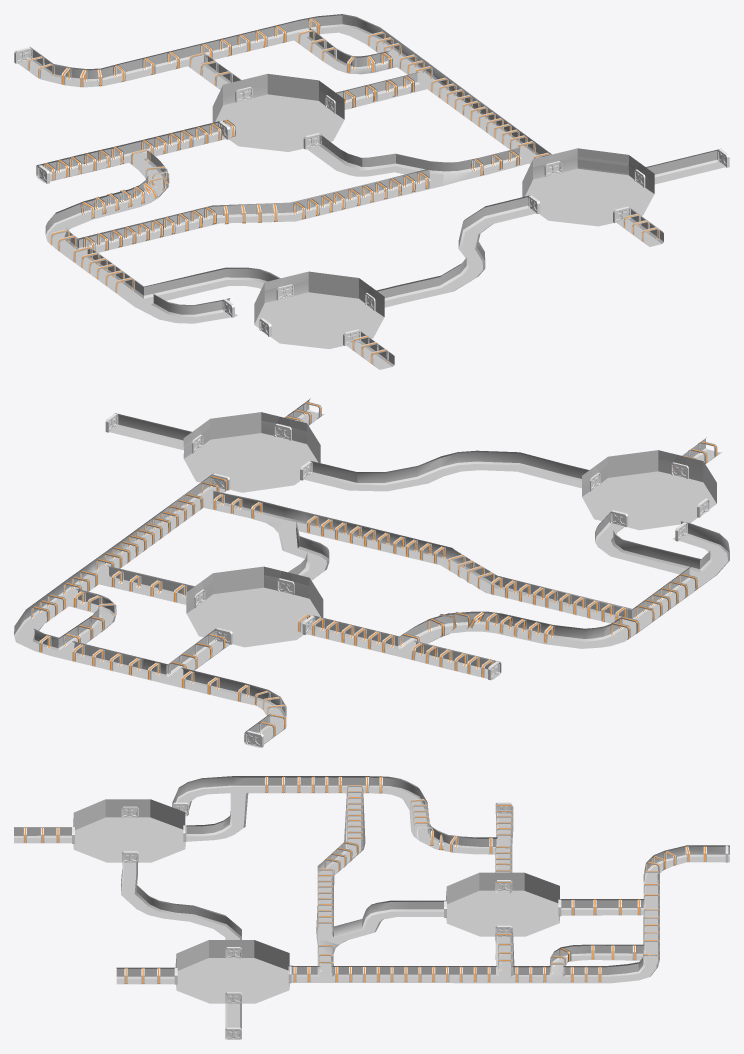
The model's file is Level3.glb.
The picture shows the model from 3 angles, top to bottom: view 1: azimuth 30°, elevation 25°; view 2: azimuth 150°, elevation 25°; view 3: azimuth 270°, elevation 25°; orthographic projection. The views are drawn at different scales.
Visible parts, largest first — view 1: Level3, LuzPasilloArray, LuzPasilloArray.003, LuzPasilloArray.001, LuzPasilloArray.008, LuzPasilloArray.006; view 2: Level3, LuzPasilloArray, LuzPasilloArray.001, LuzPasilloArray.003, LuzPasilloArray.006, LuzPasilloArray.008; view 3: Level3, LuzPasilloArray, LuzPasilloArray.003.
Part boxes in pixels (x1,y1,x2,y2): Level3: [18, 14, 725, 369]; LuzPasilloArray: [367, 31, 550, 158]; LuzPasilloArray.003: [293, 182, 387, 219]; LuzPasilloArray.001: [141, 120, 235, 154]; LuzPasilloArray.008: [43, 146, 123, 180]; LuzPasilloArray.006: [83, 219, 163, 250]; Level3: [14, 398, 729, 747]; LuzPasilloArray: [31, 475, 227, 622]; LuzPasilloArray.001: [297, 614, 394, 653]; LuzPasilloArray.003: [349, 526, 445, 564]; LuzPasilloArray.006: [545, 590, 627, 621]; LuzPasilloArray.008: [411, 642, 493, 678]; Level3: [14, 776, 729, 1039]; LuzPasilloArray: [293, 966, 601, 982]; LuzPasilloArray.003: [317, 868, 333, 915].
Bounding box in the file's own units: 112 × 3.82 × 133.
